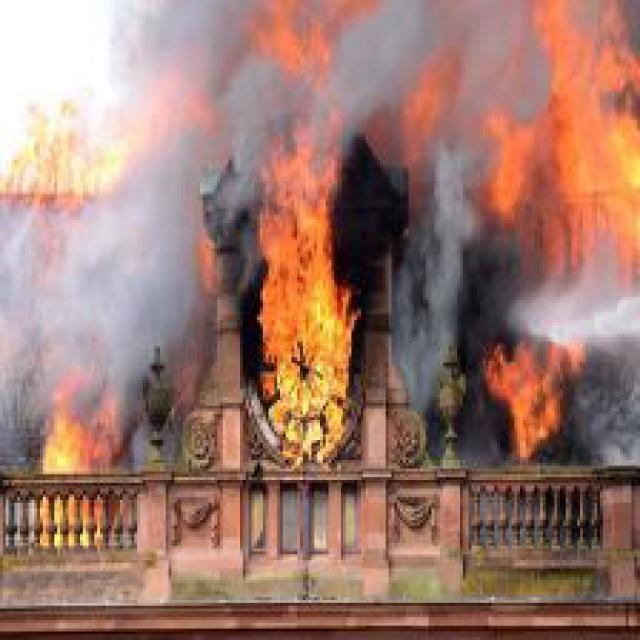fire: (208, 112, 388, 457), (452, 3, 637, 277), (3, 83, 171, 214), (32, 366, 132, 546), (480, 334, 597, 469)
